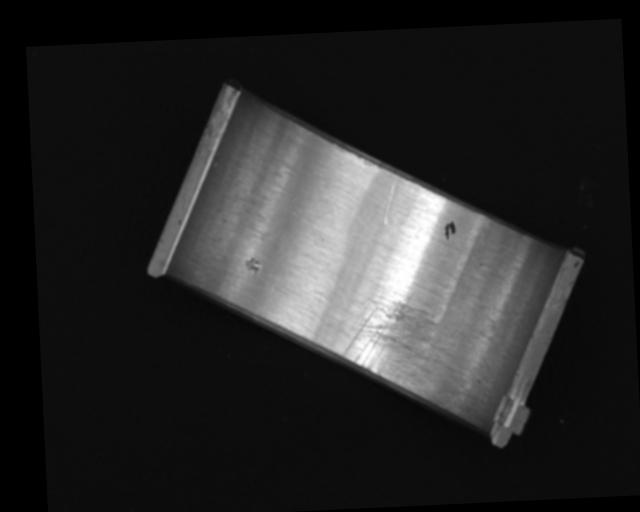blot: (444, 219, 457, 240)
bruise: (244, 256, 262, 278)
nick: (381, 177, 398, 225)
scratch: (340, 291, 457, 417)
